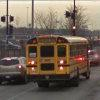Bus: (23, 29, 91, 90)
